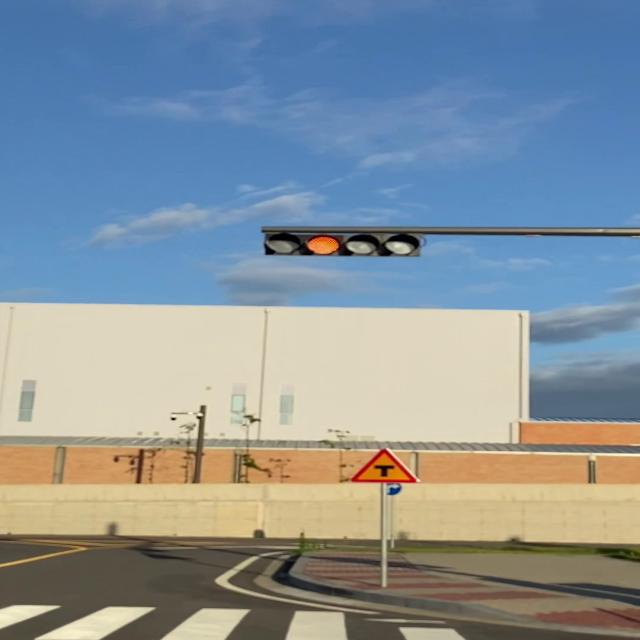yellow_light: (269, 227, 425, 259)
